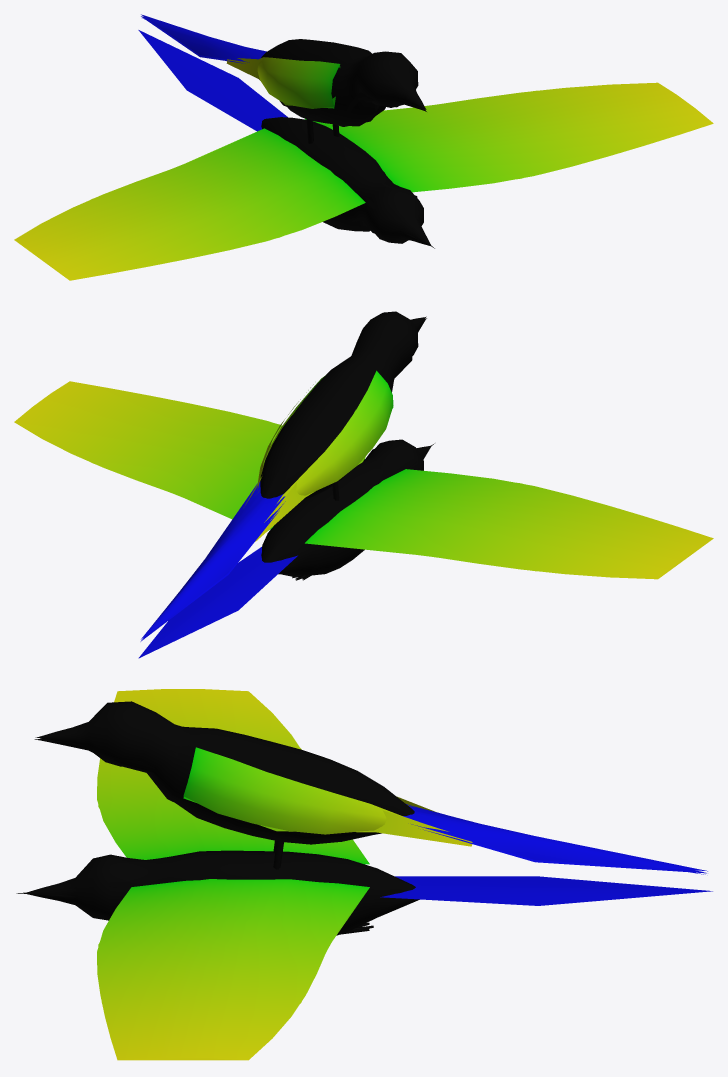
File: magpie.glb
3 renders of one model, top to bottom at view 1: azimuth 30°, elevation 25°; view 2: azimuth 150°, elevation 25°; view 3: azimuth 270°, elevation 25°, orthographic. The views are drawn at different scales.
Parts seen in each view (by area): view 1: fly0, stand0, stand1, fly1; view 2: fly0, stand0, stand1, fly1; view 3: fly0, stand0, stand1, fly1.
Part boxes in pixels (x1=…): fly0: x1=14, y1=30, x2=713, y2=280; stand0: x1=141, y1=14, x2=426, y2=143; stand1: x1=141, y1=16, x2=426, y2=142; fly1: x1=17, y1=30, x2=536, y2=277; fly0: x1=14, y1=381, x2=713, y2=657; stand0: x1=141, y1=311, x2=426, y2=639; stand1: x1=140, y1=318, x2=426, y2=641; fly1: x1=91, y1=424, x2=710, y2=657; fly0: x1=26, y1=689, x2=712, y2=1060; stand0: x1=35, y1=701, x2=707, y2=872; stand1: x1=34, y1=734, x2=706, y2=874; fly1: x1=25, y1=748, x2=711, y2=1060.
Bounding box in the file's own units: 0.56 × 0.1693 × 0.4489.
